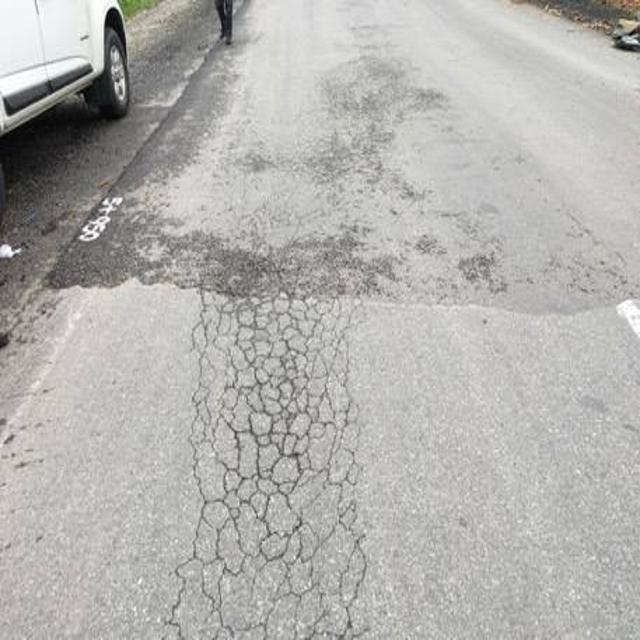Retak Buaya: (171, 292, 361, 640)
